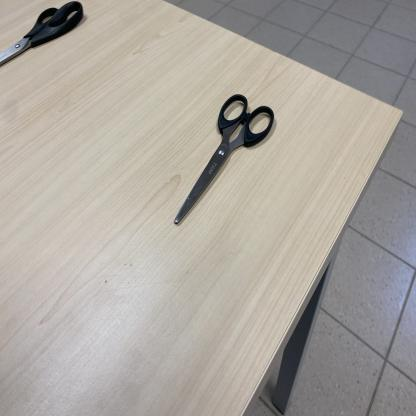scissors: (174, 93, 276, 225), (0, 0, 85, 69)
